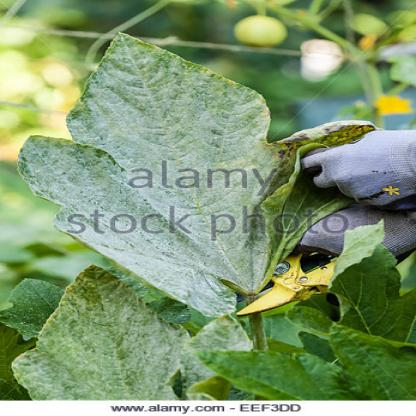Squash Powdery mildew leaf: (19, 22, 385, 315)
